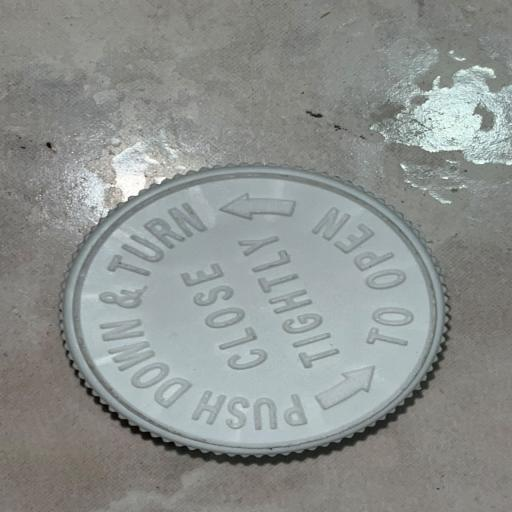HDPE: (19, 117, 478, 509)
